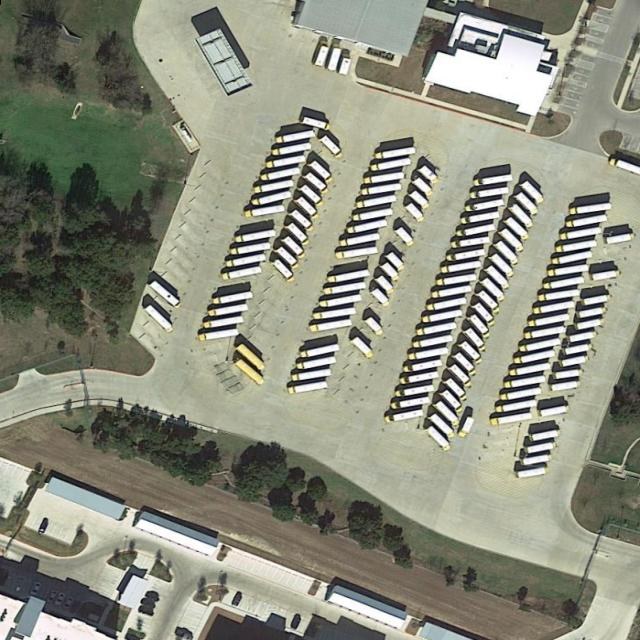large-vehicle: (148, 279, 184, 309), (143, 305, 176, 335), (234, 358, 267, 386), (235, 343, 268, 371), (428, 412, 456, 439), (513, 349, 557, 366), (252, 190, 293, 208), (484, 265, 512, 291), (346, 219, 388, 236), (212, 290, 254, 307), (554, 239, 598, 255), (524, 324, 568, 340), (425, 426, 452, 452), (434, 400, 461, 426), (307, 159, 335, 184), (498, 228, 526, 253), (432, 284, 473, 301), (222, 265, 263, 282), (234, 228, 277, 244), (327, 269, 372, 284), (452, 351, 479, 376), (286, 222, 313, 247), (494, 240, 521, 265), (260, 166, 302, 182), (300, 343, 342, 359), (288, 380, 330, 396), (566, 213, 608, 229), (543, 275, 585, 291), (500, 386, 542, 402), (559, 226, 603, 241), (504, 374, 548, 389), (245, 204, 286, 220), (297, 356, 338, 372), (446, 247, 487, 263), (439, 389, 465, 414), (481, 278, 507, 303), (521, 180, 547, 205), (510, 204, 536, 229), (490, 253, 516, 278), (445, 377, 471, 402), (289, 209, 316, 233), (299, 184, 326, 208), (304, 172, 331, 196), (274, 246, 301, 270), (363, 171, 406, 186), (320, 294, 363, 309), (440, 260, 483, 275), (528, 313, 571, 328), (551, 251, 594, 266), (533, 301, 576, 316), (519, 338, 562, 353), (509, 362, 552, 377), (281, 236, 309, 259), (385, 408, 425, 424), (403, 358, 443, 374), (353, 208, 395, 223), (340, 232, 382, 247), (426, 297, 468, 312), (226, 253, 268, 268), (548, 263, 590, 278), (491, 412, 533, 427), (515, 192, 540, 217), (477, 290, 503, 314), (504, 217, 530, 241), (309, 318, 353, 332), (569, 202, 613, 216), (371, 157, 412, 172), (357, 194, 398, 209), (422, 309, 463, 324), (272, 142, 313, 157), (275, 130, 316, 145), (374, 146, 417, 160), (324, 282, 367, 296), (396, 384, 436, 399), (473, 303, 497, 328), (413, 335, 453, 350), (295, 197, 320, 221), (266, 155, 306, 170), (272, 259, 297, 283), (361, 182, 403, 196), (408, 347, 450, 361), (203, 316, 245, 330), (538, 288, 580, 302), (313, 307, 358, 320), (466, 198, 505, 213), (469, 315, 493, 339), (449, 364, 473, 388), (320, 136, 345, 159), (417, 322, 458, 336), (231, 242, 272, 256), (208, 303, 249, 317), (496, 400, 537, 414), (400, 371, 440, 385), (255, 180, 295, 194), (461, 211, 501, 225), (336, 246, 379, 259), (465, 328, 488, 352), (460, 341, 484, 364), (391, 396, 430, 410), (291, 369, 332, 382), (457, 224, 495, 238), (352, 336, 375, 359), (438, 273, 478, 286), (474, 174, 514, 187), (451, 236, 491, 249), (312, 40, 331, 67), (471, 187, 510, 200), (302, 115, 331, 132), (532, 428, 563, 443), (326, 44, 343, 71), (518, 466, 552, 479), (527, 441, 560, 454), (541, 404, 571, 418), (606, 232, 636, 245), (561, 354, 591, 367), (552, 380, 582, 393), (579, 306, 608, 319), (592, 270, 623, 282), (523, 454, 554, 466), (569, 331, 600, 343), (576, 318, 604, 331), (583, 294, 613, 306), (555, 368, 585, 380), (565, 343, 594, 355)
small-vehicle: (407, 187, 433, 211), (383, 249, 408, 273), (411, 174, 436, 198), (393, 224, 417, 248), (403, 201, 427, 224), (364, 315, 387, 338), (379, 260, 402, 283), (417, 163, 440, 186), (457, 414, 478, 439), (371, 286, 393, 309), (374, 274, 396, 296), (337, 54, 353, 77), (61, 596, 77, 612), (144, 589, 162, 603), (36, 519, 50, 537), (136, 605, 156, 617), (139, 597, 157, 609), (68, 600, 82, 615), (54, 592, 68, 607), (290, 615, 303, 630), (47, 589, 60, 604), (30, 581, 43, 596), (231, 594, 244, 607)
